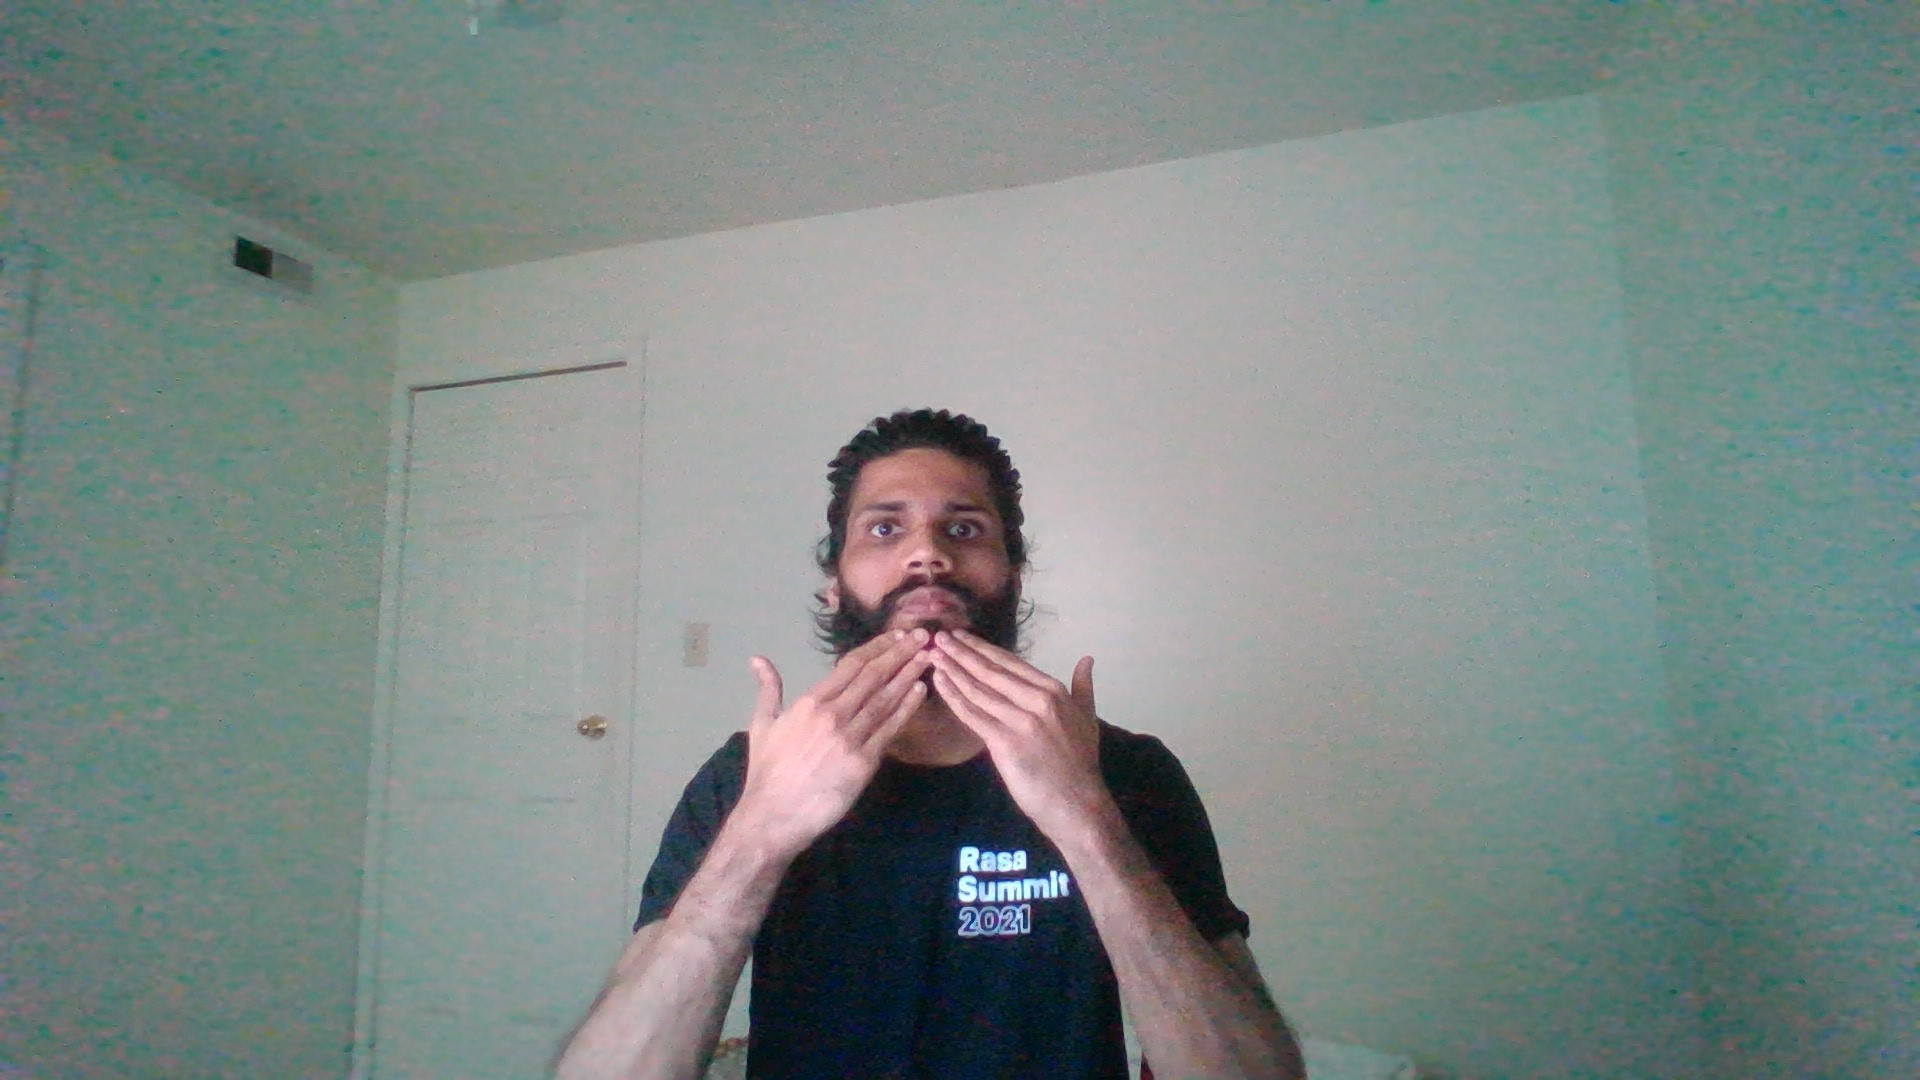Thank You: (732, 596, 1131, 852)
